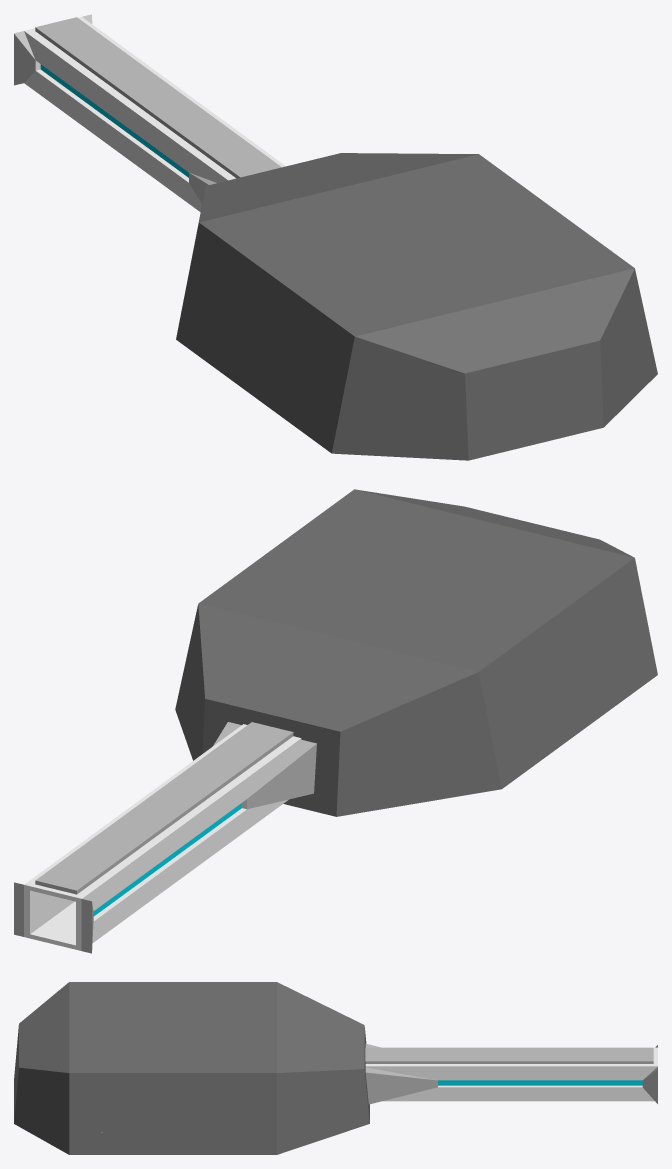
Rendered from Rail3.fbx.
The picture shows the model from 3 angles, top to bottom: view 1: azimuth 30°, elevation 25°; view 2: azimuth 150°, elevation 25°; view 3: azimuth 270°, elevation 25°; orthographic projection. The views are drawn at different scales.
Parts seen in each view (by area): view 1: Cube.001; view 2: Cube.001; view 3: Cube.001.
Boxes of the visible parts, box(x1,y1,x2,y2) form: Cube.001: box(14, 14, 657, 460); Cube.001: box(14, 489, 657, 953); Cube.001: box(14, 982, 657, 1154).
Bounding box in the file's own units: 146 × 47.83 × 376.
Materials: 1 (1 with a texture image).
